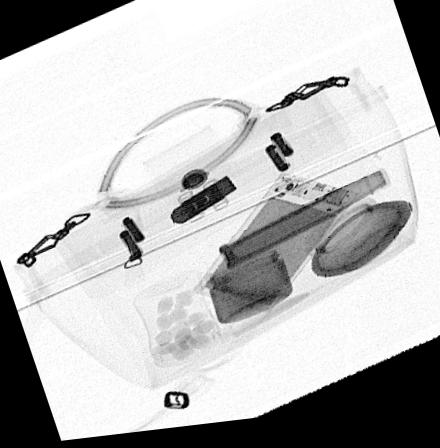Powerbank: (193, 178, 360, 319)
